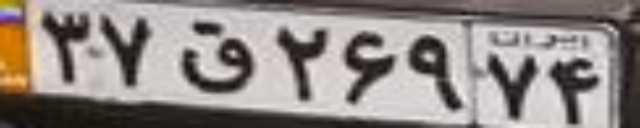2: (273, 24, 327, 103)
3: (38, 7, 92, 84)
4: (548, 56, 600, 125)
6: (340, 29, 398, 104)
7: (96, 12, 152, 89), (483, 52, 539, 118)
9: (405, 33, 466, 110)
ghaf: (175, 21, 255, 94)
